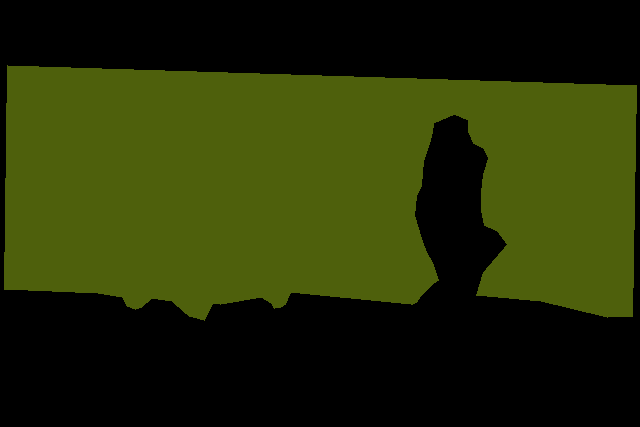Train: (4, 65, 636, 321)
